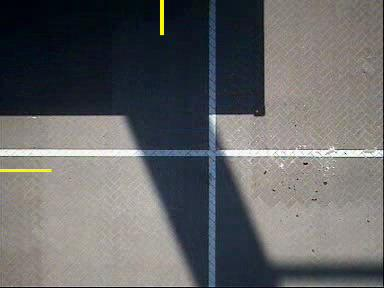groundmarker_2: (127, 190, 231, 233)
